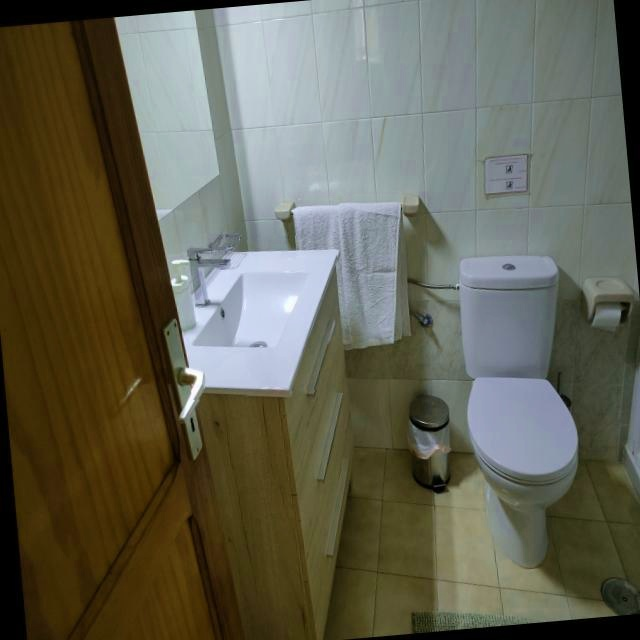cabinet: (196, 269, 353, 640)
shelf: (623, 356, 640, 502)
table: (458, 255, 578, 569)
wardrobe: (187, 242, 337, 392)
